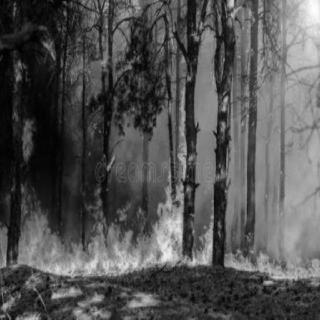Fire: (102, 151, 119, 171)
other: (298, 0, 318, 30)
